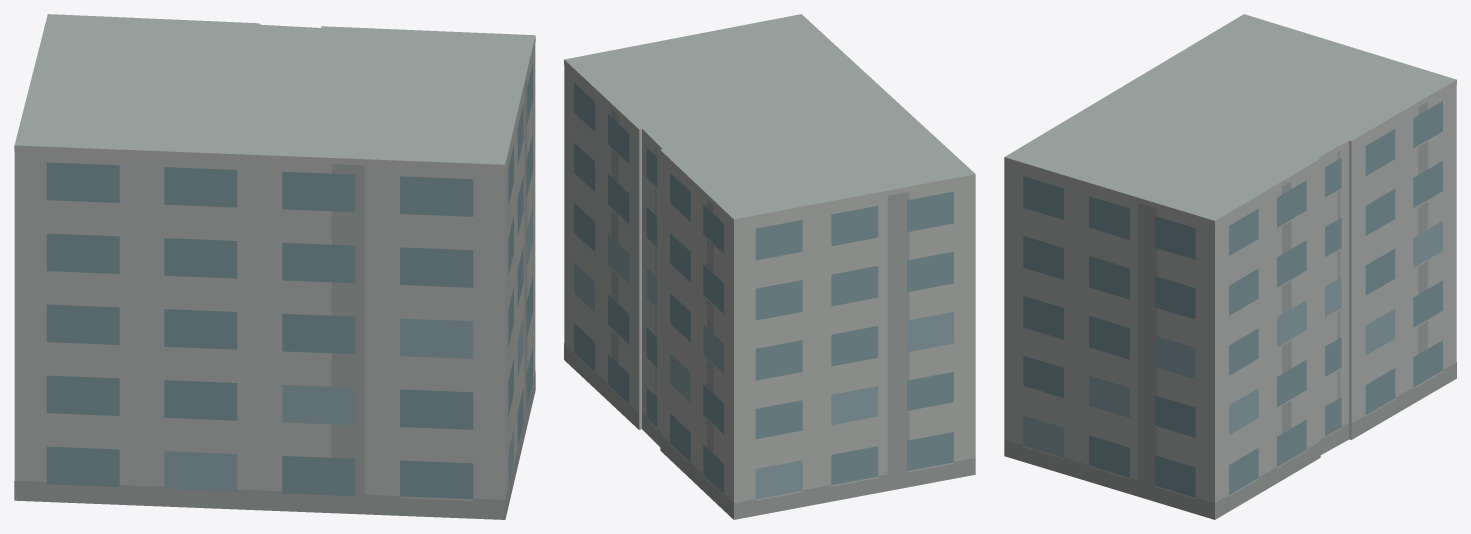
The model's file is survey-upis-32977903.glb.
3 renders of one model, left to right at view 1: azimuth 30°, elevation 25°; view 2: azimuth 150°, elevation 25°; view 3: azimuth 270°, elevation 25°, orthographic. The views are drawn at different scales.
Visible parts, largest first — view 1: survey-upis-32977903.tmp; view 2: survey-upis-32977903.tmp; view 3: survey-upis-32977903.tmp.
Part boxes in pixels (bbox=[...]): survey-upis-32977903.tmp: bbox=[14, 14, 535, 519]; survey-upis-32977903.tmp: bbox=[564, 14, 975, 519]; survey-upis-32977903.tmp: bbox=[1004, 14, 1456, 519].
Bounding box in the file's own units: 21.04 × 14.17 × 19.44.
